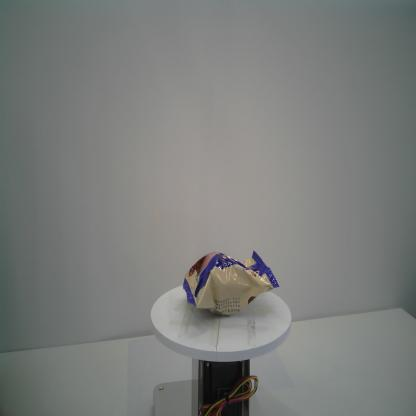Dessert: (180, 245, 282, 321)
